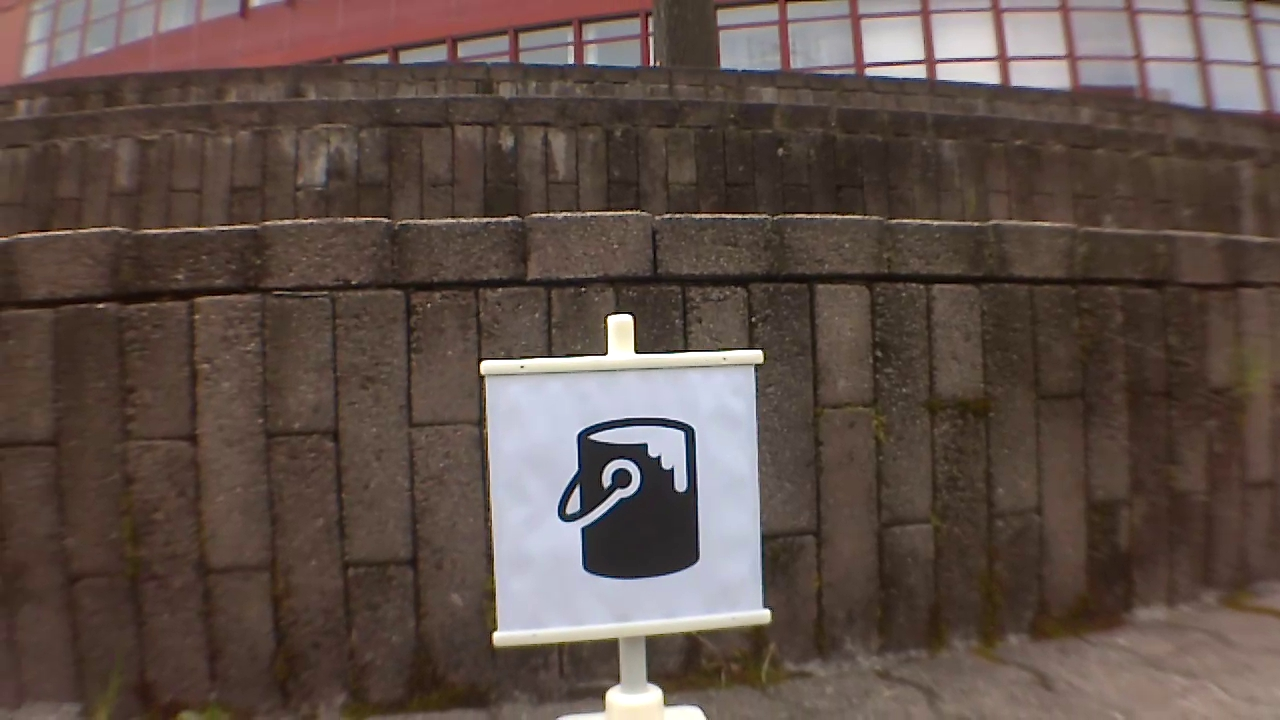bucket: (552, 408, 706, 594)
